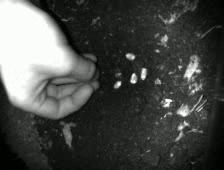corn: (138, 65, 149, 81), (112, 78, 124, 91), (128, 71, 140, 84), (123, 51, 137, 61), (112, 70, 124, 79)
